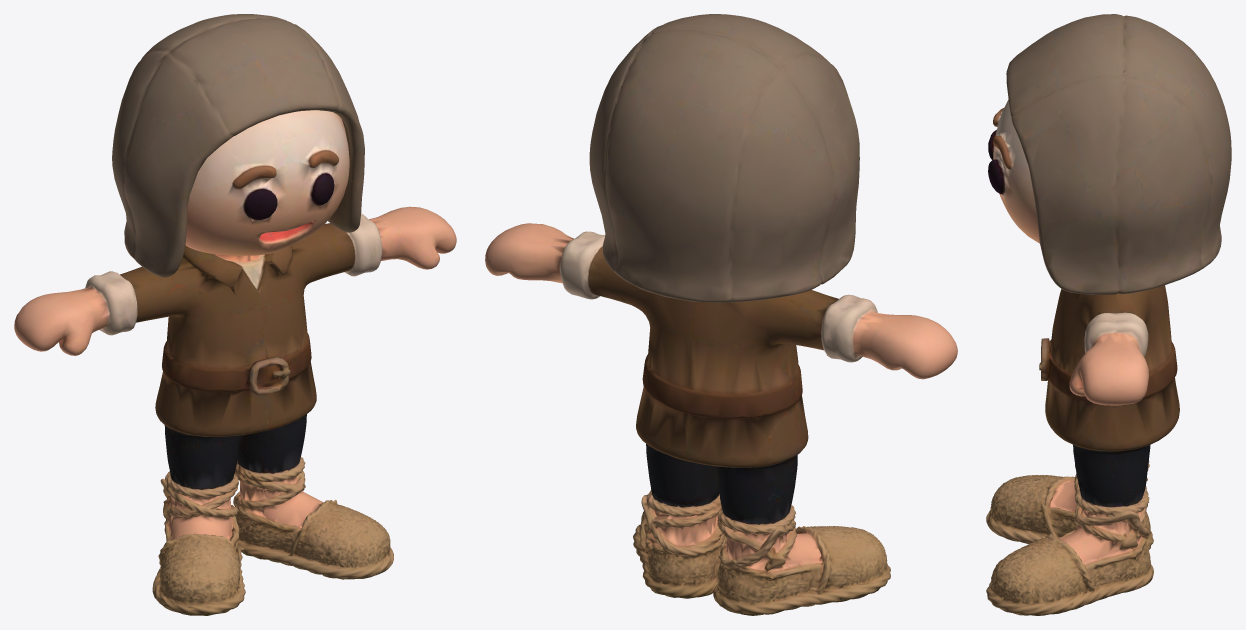
The model's file is a3D-aldeano.glb.
The picture shows the model from 3 angles, left to right: view 1: azimuth 30°, elevation 25°; view 2: azimuth 150°, elevation 25°; view 3: azimuth 270°, elevation 25°; orthographic projection. The views are drawn at different scales.
Parts seen in each view (by area): view 1: geometry_0; view 2: geometry_0; view 3: geometry_0.
Part boxes in pixels (x1,y1,x2,y2): geometry_0: (14,14,456,615); geometry_0: (485,14,957,615); geometry_0: (986,14,1231,615).
Bounding box in the file's own units: 1.61 × 1.9 × 0.7926.
1 material, 1 textured.
